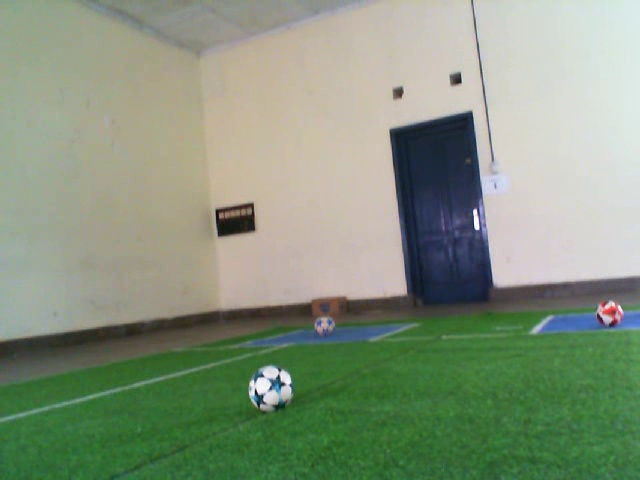ball: (246, 363, 297, 417), (594, 297, 626, 330), (312, 314, 337, 341)
